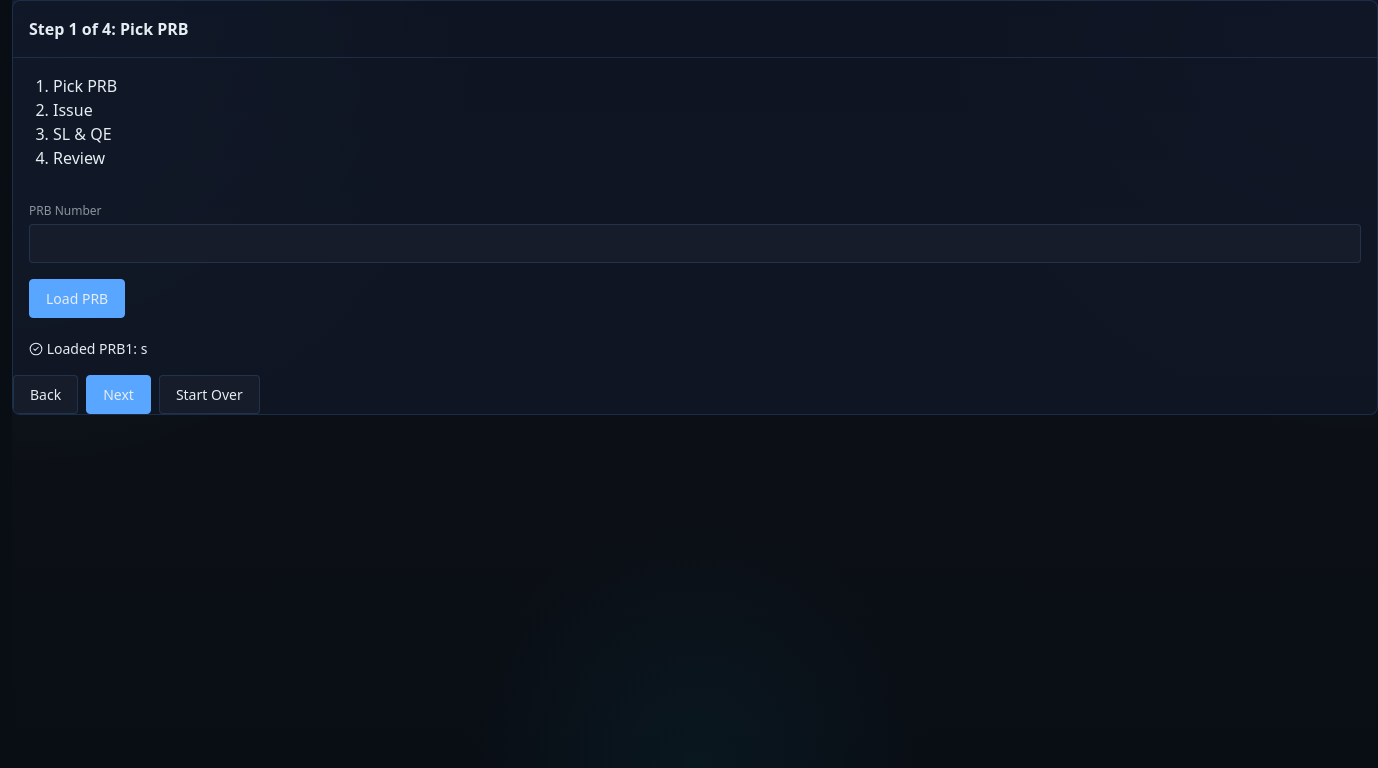
Test: PrbWizard › Back returns the user to a prior step
Click the button "Next". click: (119, 394)
box: [86,375,151,414]
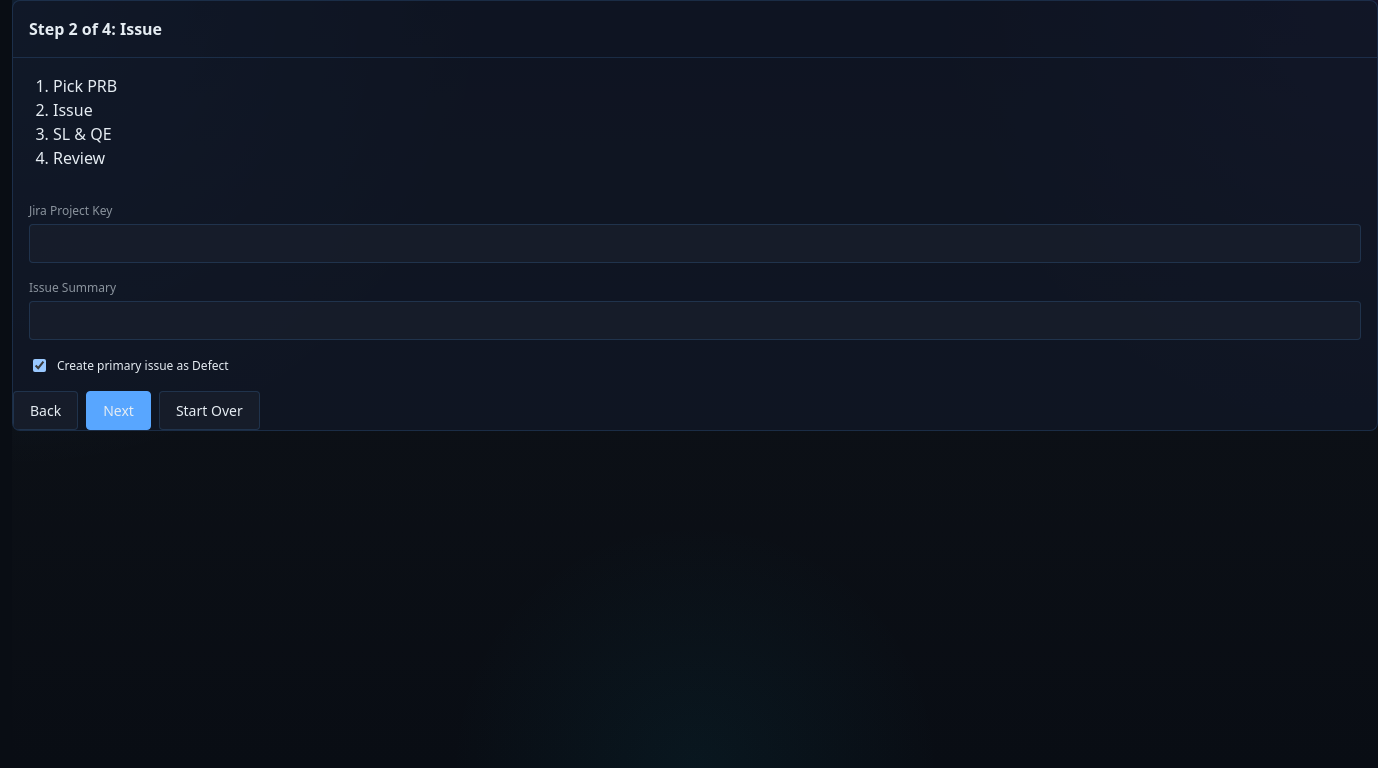
Result: the heading "Step 2 of 4: Issue" is shown at [29,18,162,40]
Click the button "Back". click: (46, 410)
box: [13,391,78,430]
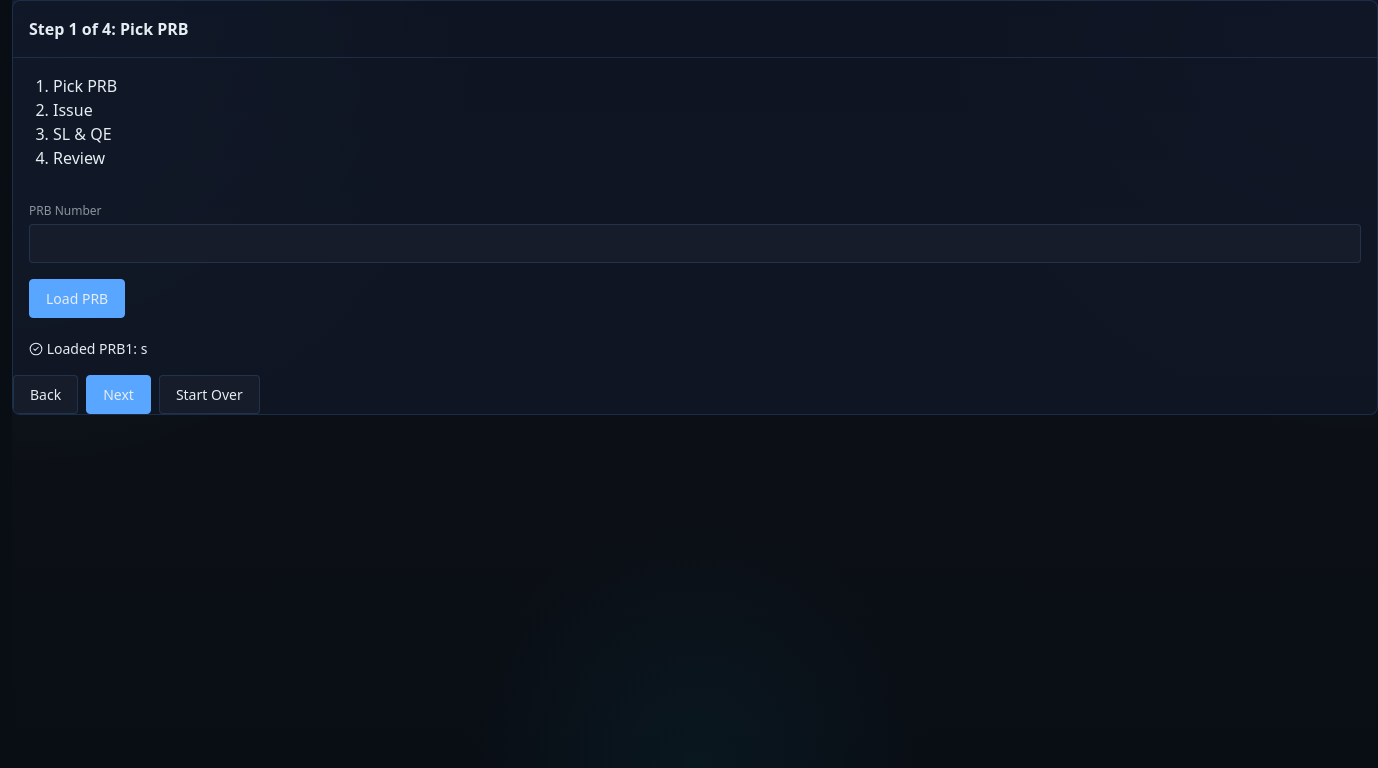
Result: the heading "Step 1 of 4: Pick PRB" is shown at [29,18,189,40]
